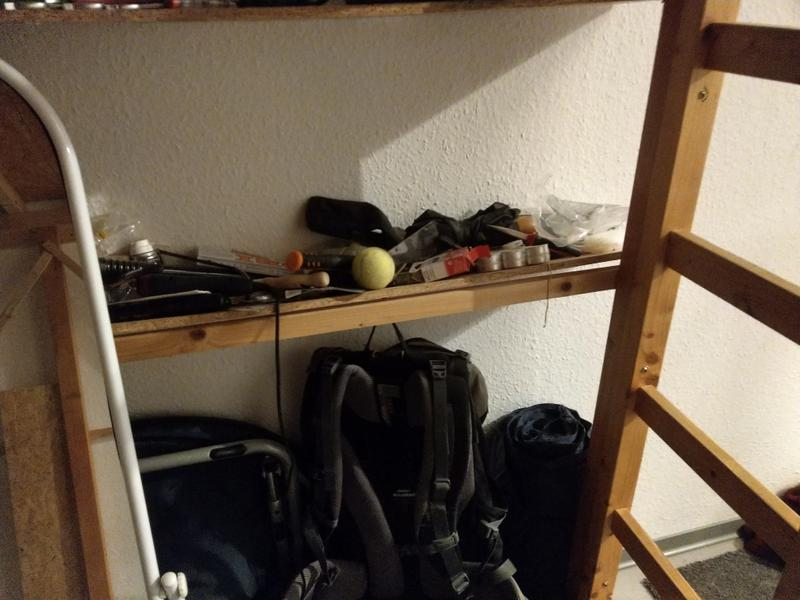Tennisball: (351, 242, 395, 292)
